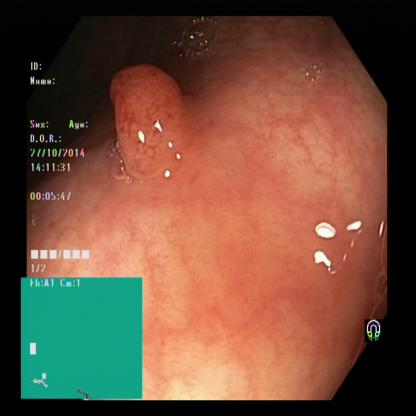Labels: (30, 60, 100, 276), (23, 278, 142, 400), (363, 307, 391, 347)
Polyps: (102, 60, 197, 186)
